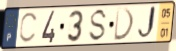3: (67, 9, 85, 44)
4: (40, 9, 56, 45)
C: (18, 11, 40, 45)
D: (113, 7, 136, 43)
J: (137, 4, 158, 42)
S: (87, 7, 109, 44)
